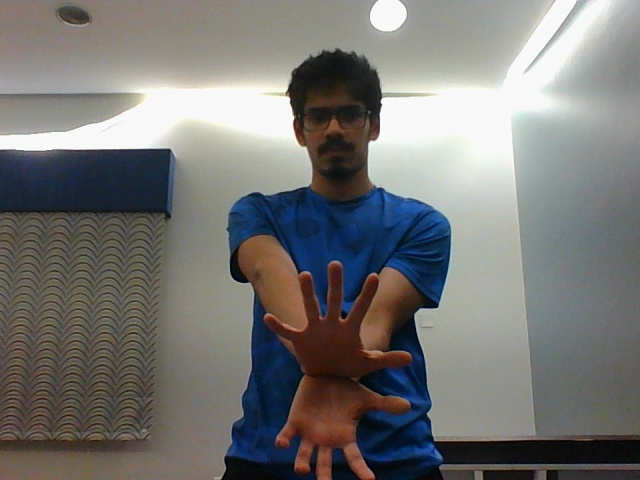blast: (258, 261, 409, 480)
